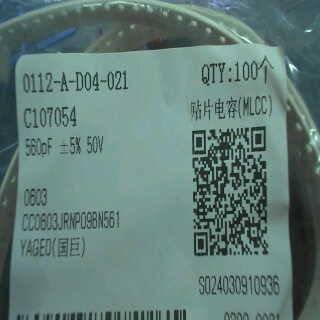560pF: (23, 134, 55, 162)
